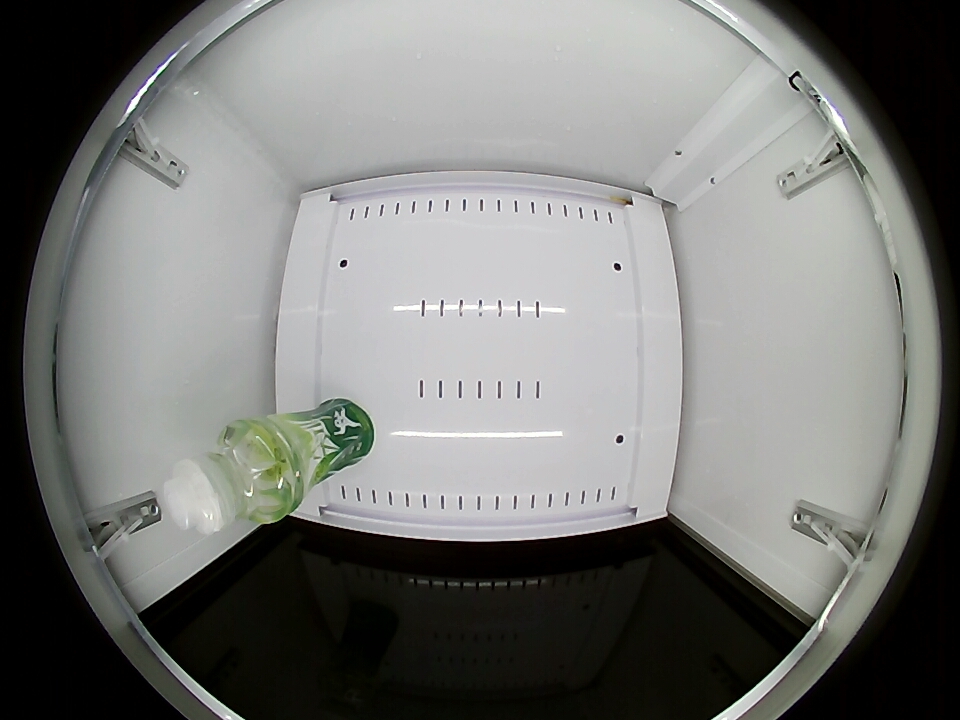jianjiao: (162, 421, 292, 535)
